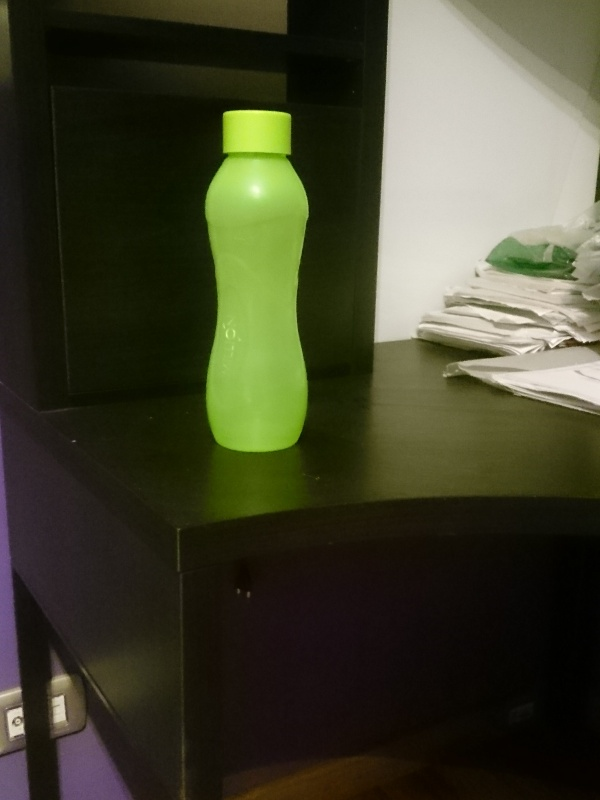my bottle: (199, 110, 307, 454)
